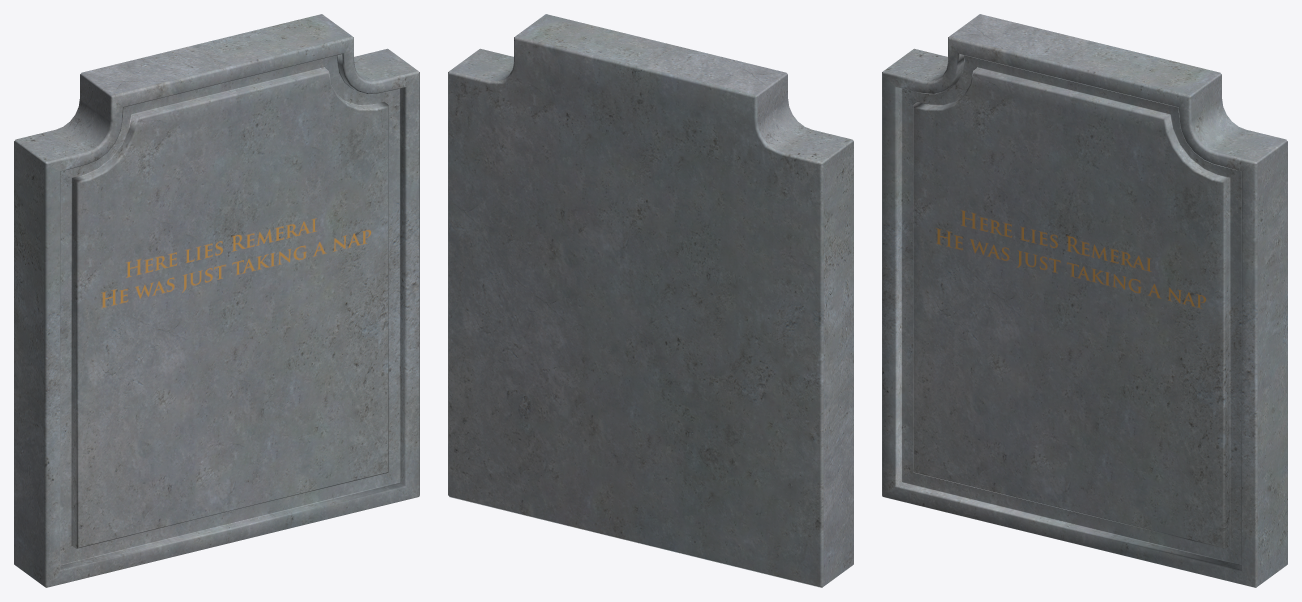
Rendered from wilhelm.obj.
3 views of the same model, side by side, from view 1: azimuth 30°, elevation 25°; view 2: azimuth 150°, elevation 25°; view 3: azimuth 330°, elevation 25° (orthographic).
Parts seen in each view (by area): view 1: wilhelm triangle_done; view 2: wilhelm triangle_done; view 3: wilhelm triangle_done.
Boxes of the visible parts, x1,y1,x2,y2 form: wilhelm triangle_done: [14, 14, 419, 587]; wilhelm triangle_done: [448, 14, 853, 587]; wilhelm triangle_done: [882, 14, 1287, 587].
Bounding box in the file's own units: 18.73 × 22.72 × 2.87.
Materials: 1 (1 with a texture image).
